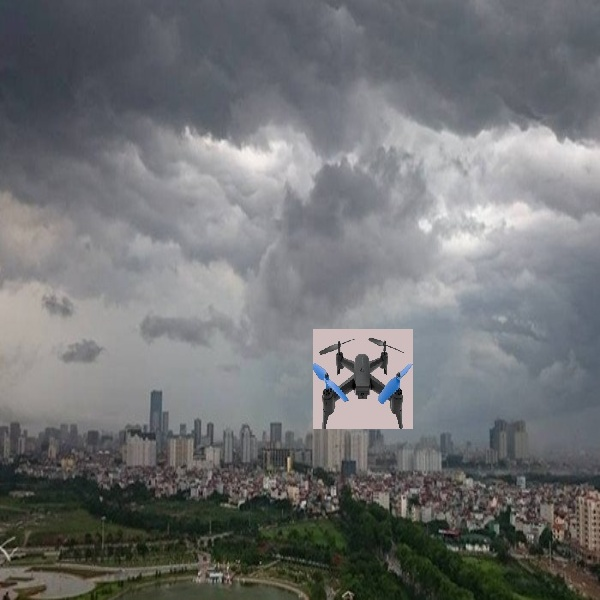drone: (308, 325, 414, 428)
